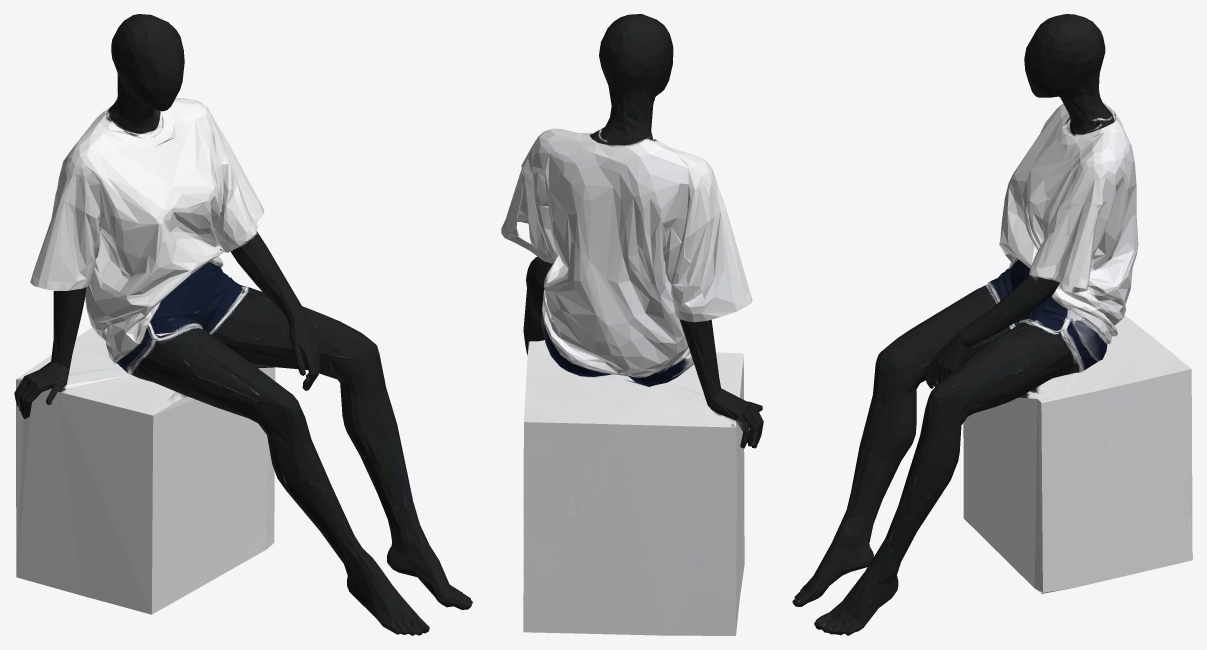
The model's file is femme-assis.glb.
3 views of the same model, side by side, from view 1: azimuth 30°, elevation 25°; view 2: azimuth 150°, elevation 25°; view 3: azimuth 270°, elevation 25° (orthographic). The views are drawn at different scales.
Visible parts, largest first — view 1: dressed; view 2: dressed; view 3: dressed.
Boxes of the visible parts, box(x1,y1,x2,y2) form: dressed: box(14, 14, 472, 635); dressed: box(501, 14, 763, 635); dressed: box(792, 14, 1192, 635).
Bounding box in the file's own units: 0.745 × 1.2 × 0.824.
1 material, 1 textured.
